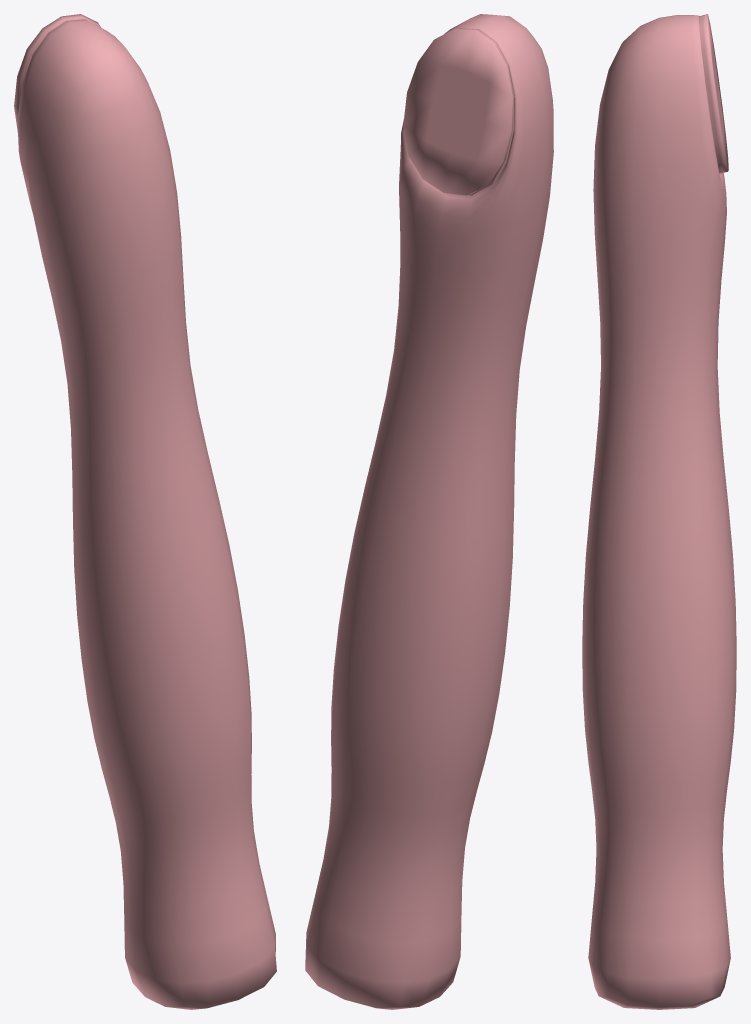
File: finger.003.fbx
3 views of the same model, side by side, from view 1: azimuth 30°, elevation 25°; view 2: azimuth 150°, elevation 25°; view 3: azimuth 270°, elevation 25° (orthographic). The views are drawn at different scales.
Parts seen in each view (by area): view 1: finger.003; view 2: finger.003; view 3: finger.003.
Boxes of the visible parts, box(x1,y1,x2,y2) form: finger.003: box(14, 14, 276, 1009); finger.003: box(305, 14, 553, 1009); finger.003: box(582, 14, 736, 1009).
Bounding box in the file's own units: 55.46 × 232 × 34.84.
